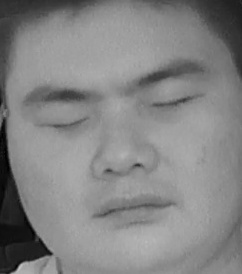blink: (151, 85, 196, 122), (42, 106, 92, 138)
mouth: (90, 188, 182, 233)
